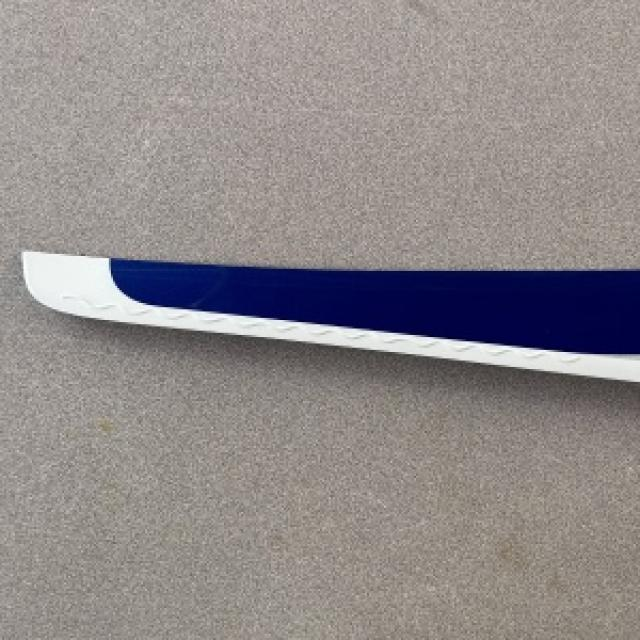healthy: (23, 250, 638, 378)
